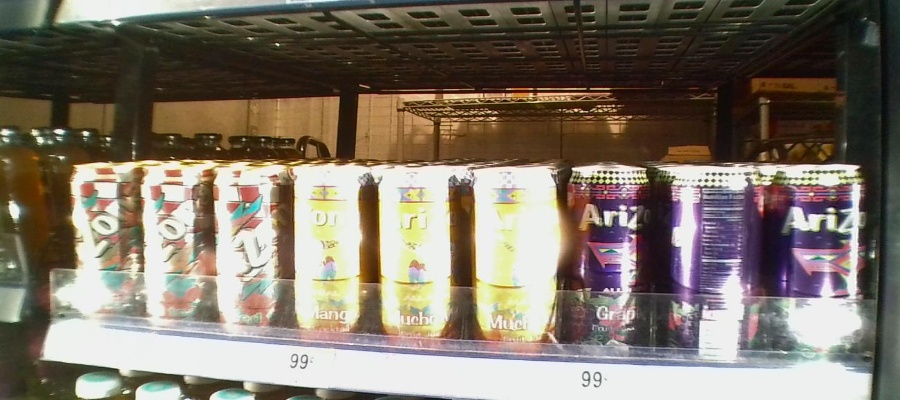bottle: (657, 157, 760, 370), (768, 155, 868, 368), (459, 159, 559, 361), (562, 156, 652, 362), (369, 160, 455, 350), (289, 157, 364, 343), (214, 151, 286, 340), (67, 152, 140, 331), (141, 151, 211, 333)
